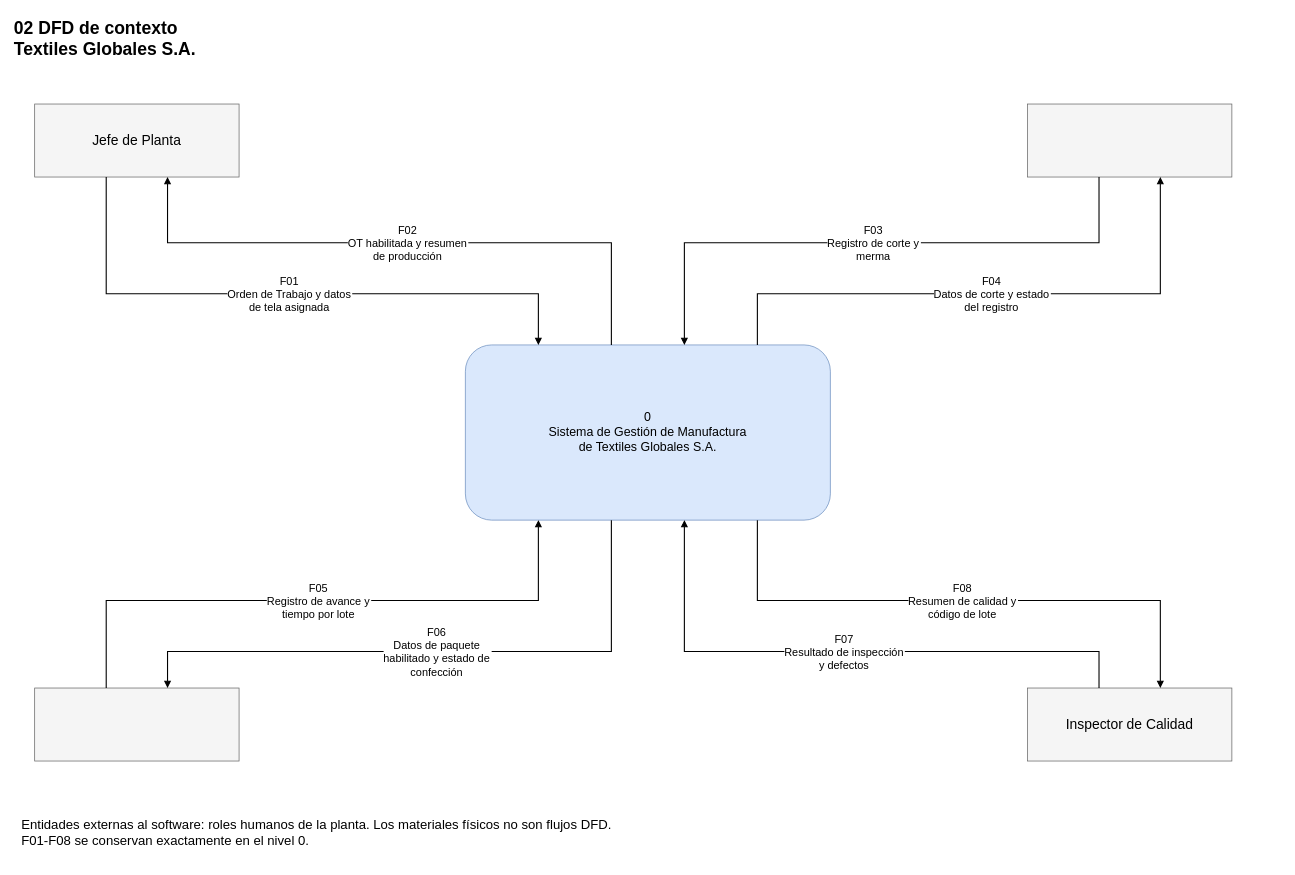
Some shapes in this 1295 by 875 pixel diagram are drawn without their labels. Here are the shapes that lost their labels. From the top down, the centre of each, then its label:
At (1129,140): "Operario de Corte".
At (136,724): "Operario de Confección".
